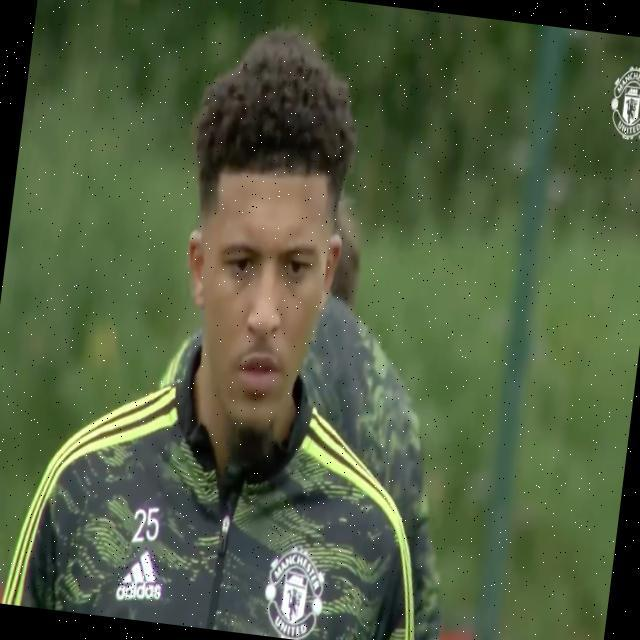Adidas: (115, 544, 168, 604)
